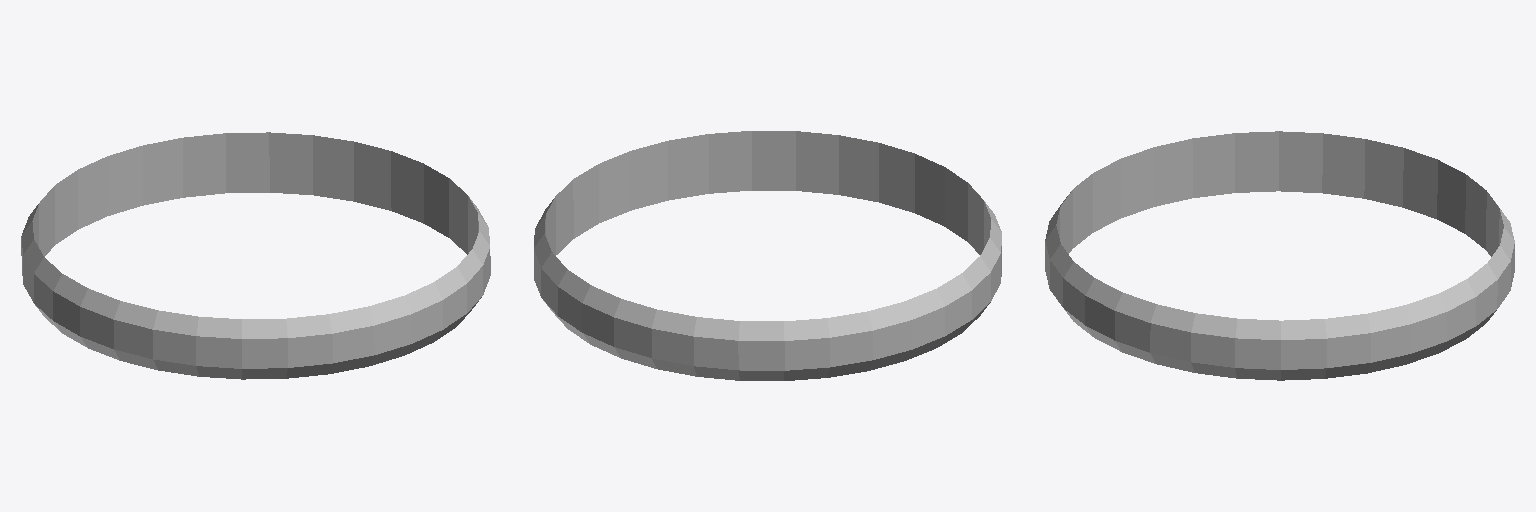
Rendered from SpaceStation1.obj.
The picture shows the model from 3 angles: view 1: azimuth 30°, elevation 25°; view 2: azimuth 150°, elevation 25°; view 3: azimuth 270°, elevation 25°; orthographic projection.
Visible parts, largest first — view 1: pTorus1; view 2: pTorus1; view 3: pTorus1.
Boxes of the visible parts, box(x1,y1,x2,y2) form: pTorus1: box(21, 132, 490, 379); pTorus1: box(534, 131, 1001, 380); pTorus1: box(1045, 131, 1514, 380).
Size of the model in its own units: 30.79 by 4.51 by 30.81.